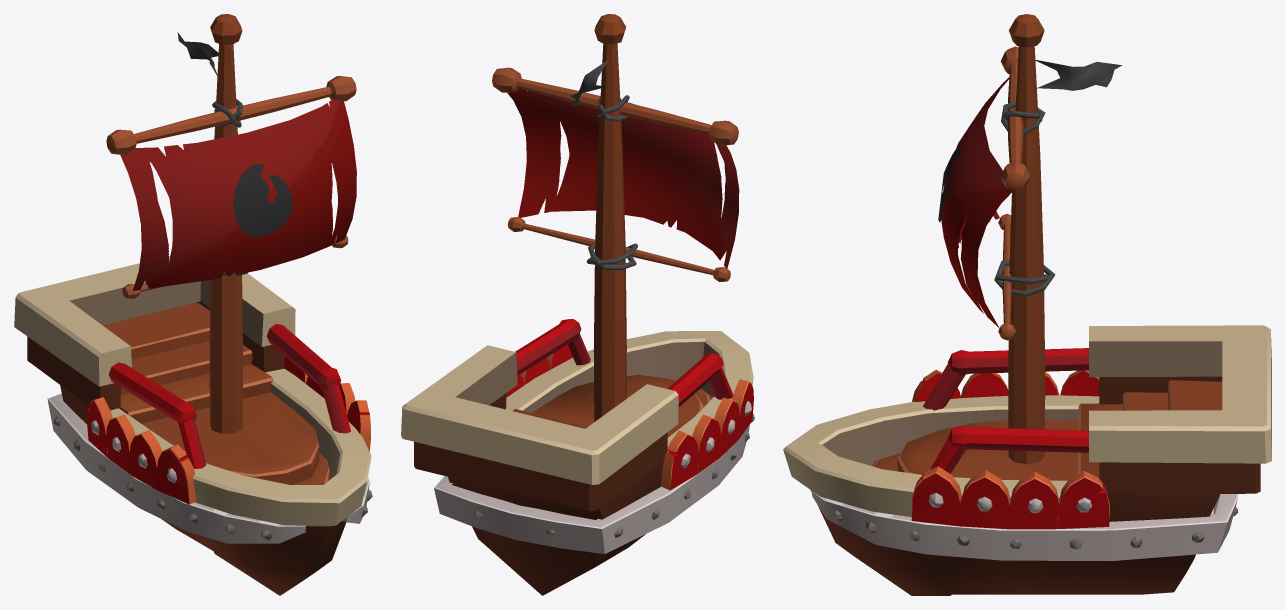
The model's file is ShipTypeC.fbx.
3 views of the same model, side by side, from view 1: azimuth 30°, elevation 25°; view 2: azimuth 150°, elevation 25°; view 3: azimuth 270°, elevation 25° (orthographic). The views are drawn at different scales.
Parts seen in each view (by area): view 1: Red_Color_Cloth_03, Red_Color_08, Red_Color_04, Red_Color_05, Red_Color_06, Red_Color_07, Armor_Color_04, Red_Color_01, Armor_Color_01, Armor_Color_02, Armor_Color_03; view 2: Red_Color_Cloth_03, Red_Color_04, Red_Color_06, Red_Color_07, Armor_Color_04, Red_Color_05, Armor_Color_01, Red_Color_01, Red_Color_08, Red_Color_02, Armor_Color_02, Armor_Color_03; view 3: Red_Color_07, Red_Color_04, Red_Color_06, Red_Color_05, Armor_Color_04, Armor_Color_02, Red_Color_Cloth_03, Red_Color_08, Red_Color_01, Armor_Color_01, Red_Color_02, Armor_Color_03.
Boxes of the visible parts, <box> form: Red_Color_Cloth_03: <box>120,32,356,290</box>; Red_Color_08: <box>103,303,330,484</box>; Red_Color_04: <box>14,256,295,386</box>; Red_Color_05: <box>110,368,371,526</box>; Red_Color_06: <box>106,14,356,433</box>; Red_Color_07: <box>27,301,346,595</box>; Armor_Color_04: <box>47,393,369,543</box>; Red_Color_01: <box>108,324,350,468</box>; Armor_Color_01: <box>86,397,196,504</box>; Armor_Color_02: <box>284,356,370,451</box>; Armor_Color_03: <box>53,416,372,540</box>; Red_Color_Cloth_03: <box>507,60,739,268</box>; Red_Color_04: <box>401,345,678,484</box>; Red_Color_06: <box>492,14,738,421</box>; Red_Color_07: <box>414,393,667,595</box>; Armor_Color_04: <box>434,425,749,553</box>; Red_Color_05: <box>506,331,753,452</box>; Armor_Color_01: <box>661,379,753,490</box>; Red_Color_01: <box>515,319,733,407</box>; Red_Color_08: <box>513,374,712,437</box>; Red_Color_02: <box>586,95,637,269</box>; Armor_Color_02: <box>506,344,572,397</box>; Armor_Color_03: <box>474,413,754,537</box>; Red_Color_07: <box>810,376,1260,595</box>; Red_Color_04: <box>1089,325,1271,463</box>; Red_Color_06: <box>998,14,1045,464</box>; Red_Color_05: <box>783,395,1099,516</box>; Armor_Color_04: <box>811,490,1238,560</box>; Armor_Color_02: <box>911,466,1109,529</box>; Red_Color_Cloth_03: <box>938,60,1121,328</box>; Red_Color_08: <box>872,380,1222,480</box>; Red_Color_01: <box>923,348,1088,473</box>; Armor_Color_01: <box>912,369,1099,401</box>; Red_Color_02: <box>994,101,1055,296</box>; Armor_Color_03: <box>832,507,1238,549</box>.
Size of the model in its own units: 16.33 by 34.03 by 25.91.
